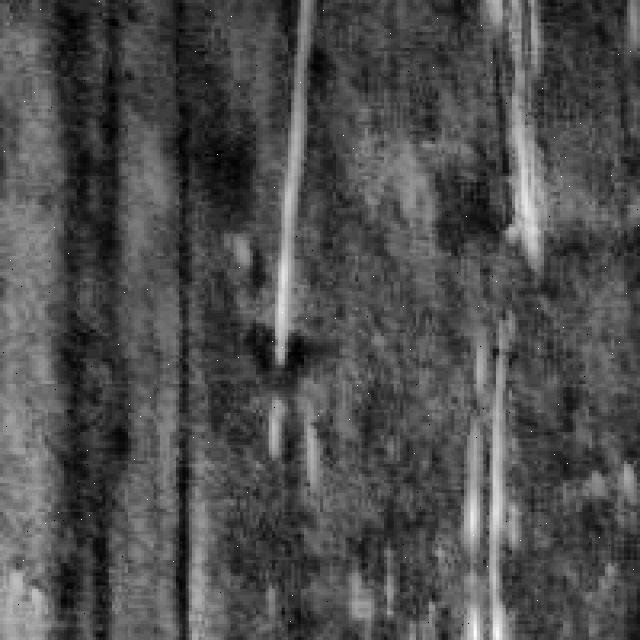Inclusion: (268, 3, 329, 467), (458, 320, 518, 637), (499, 64, 554, 272)
Patches: (48, 3, 147, 627), (166, 221, 205, 637)
